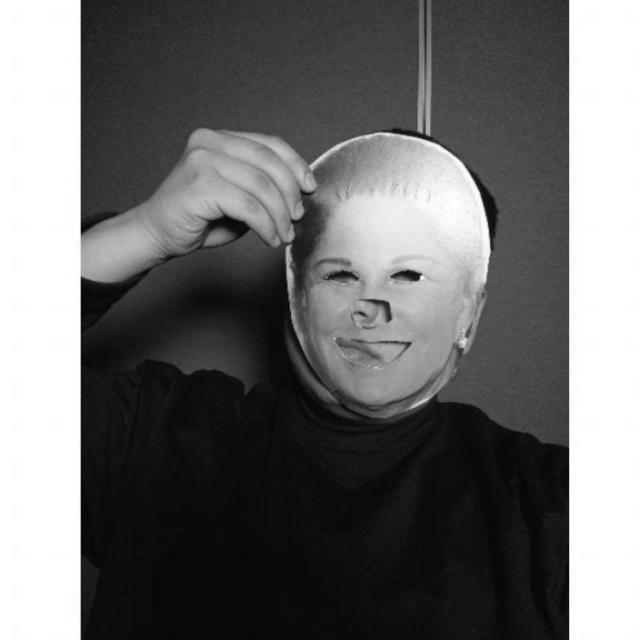fake: (284, 132, 488, 412)
